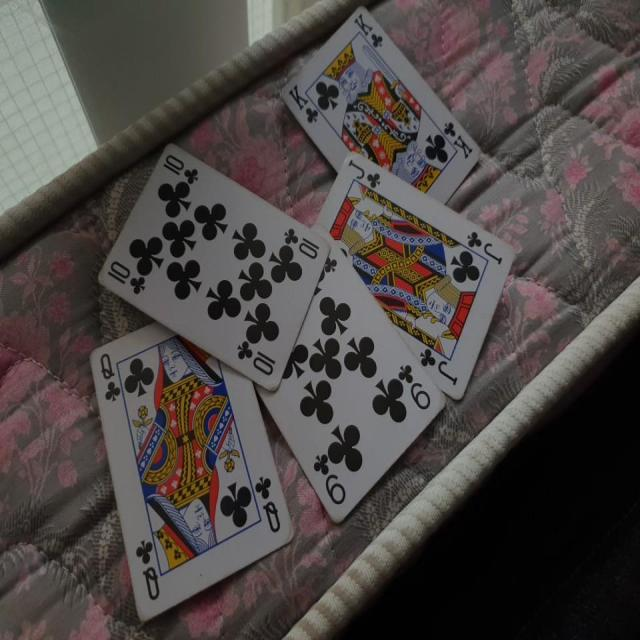10 Trefoils: (96, 136, 329, 393)
9 Trefoils: (256, 220, 448, 524)
J Trefoils: (314, 148, 515, 406)
K Trefoils: (281, 6, 482, 202)
Q Trefoils: (87, 319, 295, 624)
